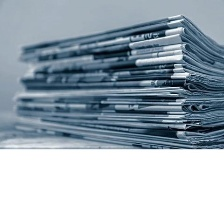news_paper: (6, 13, 223, 149)
